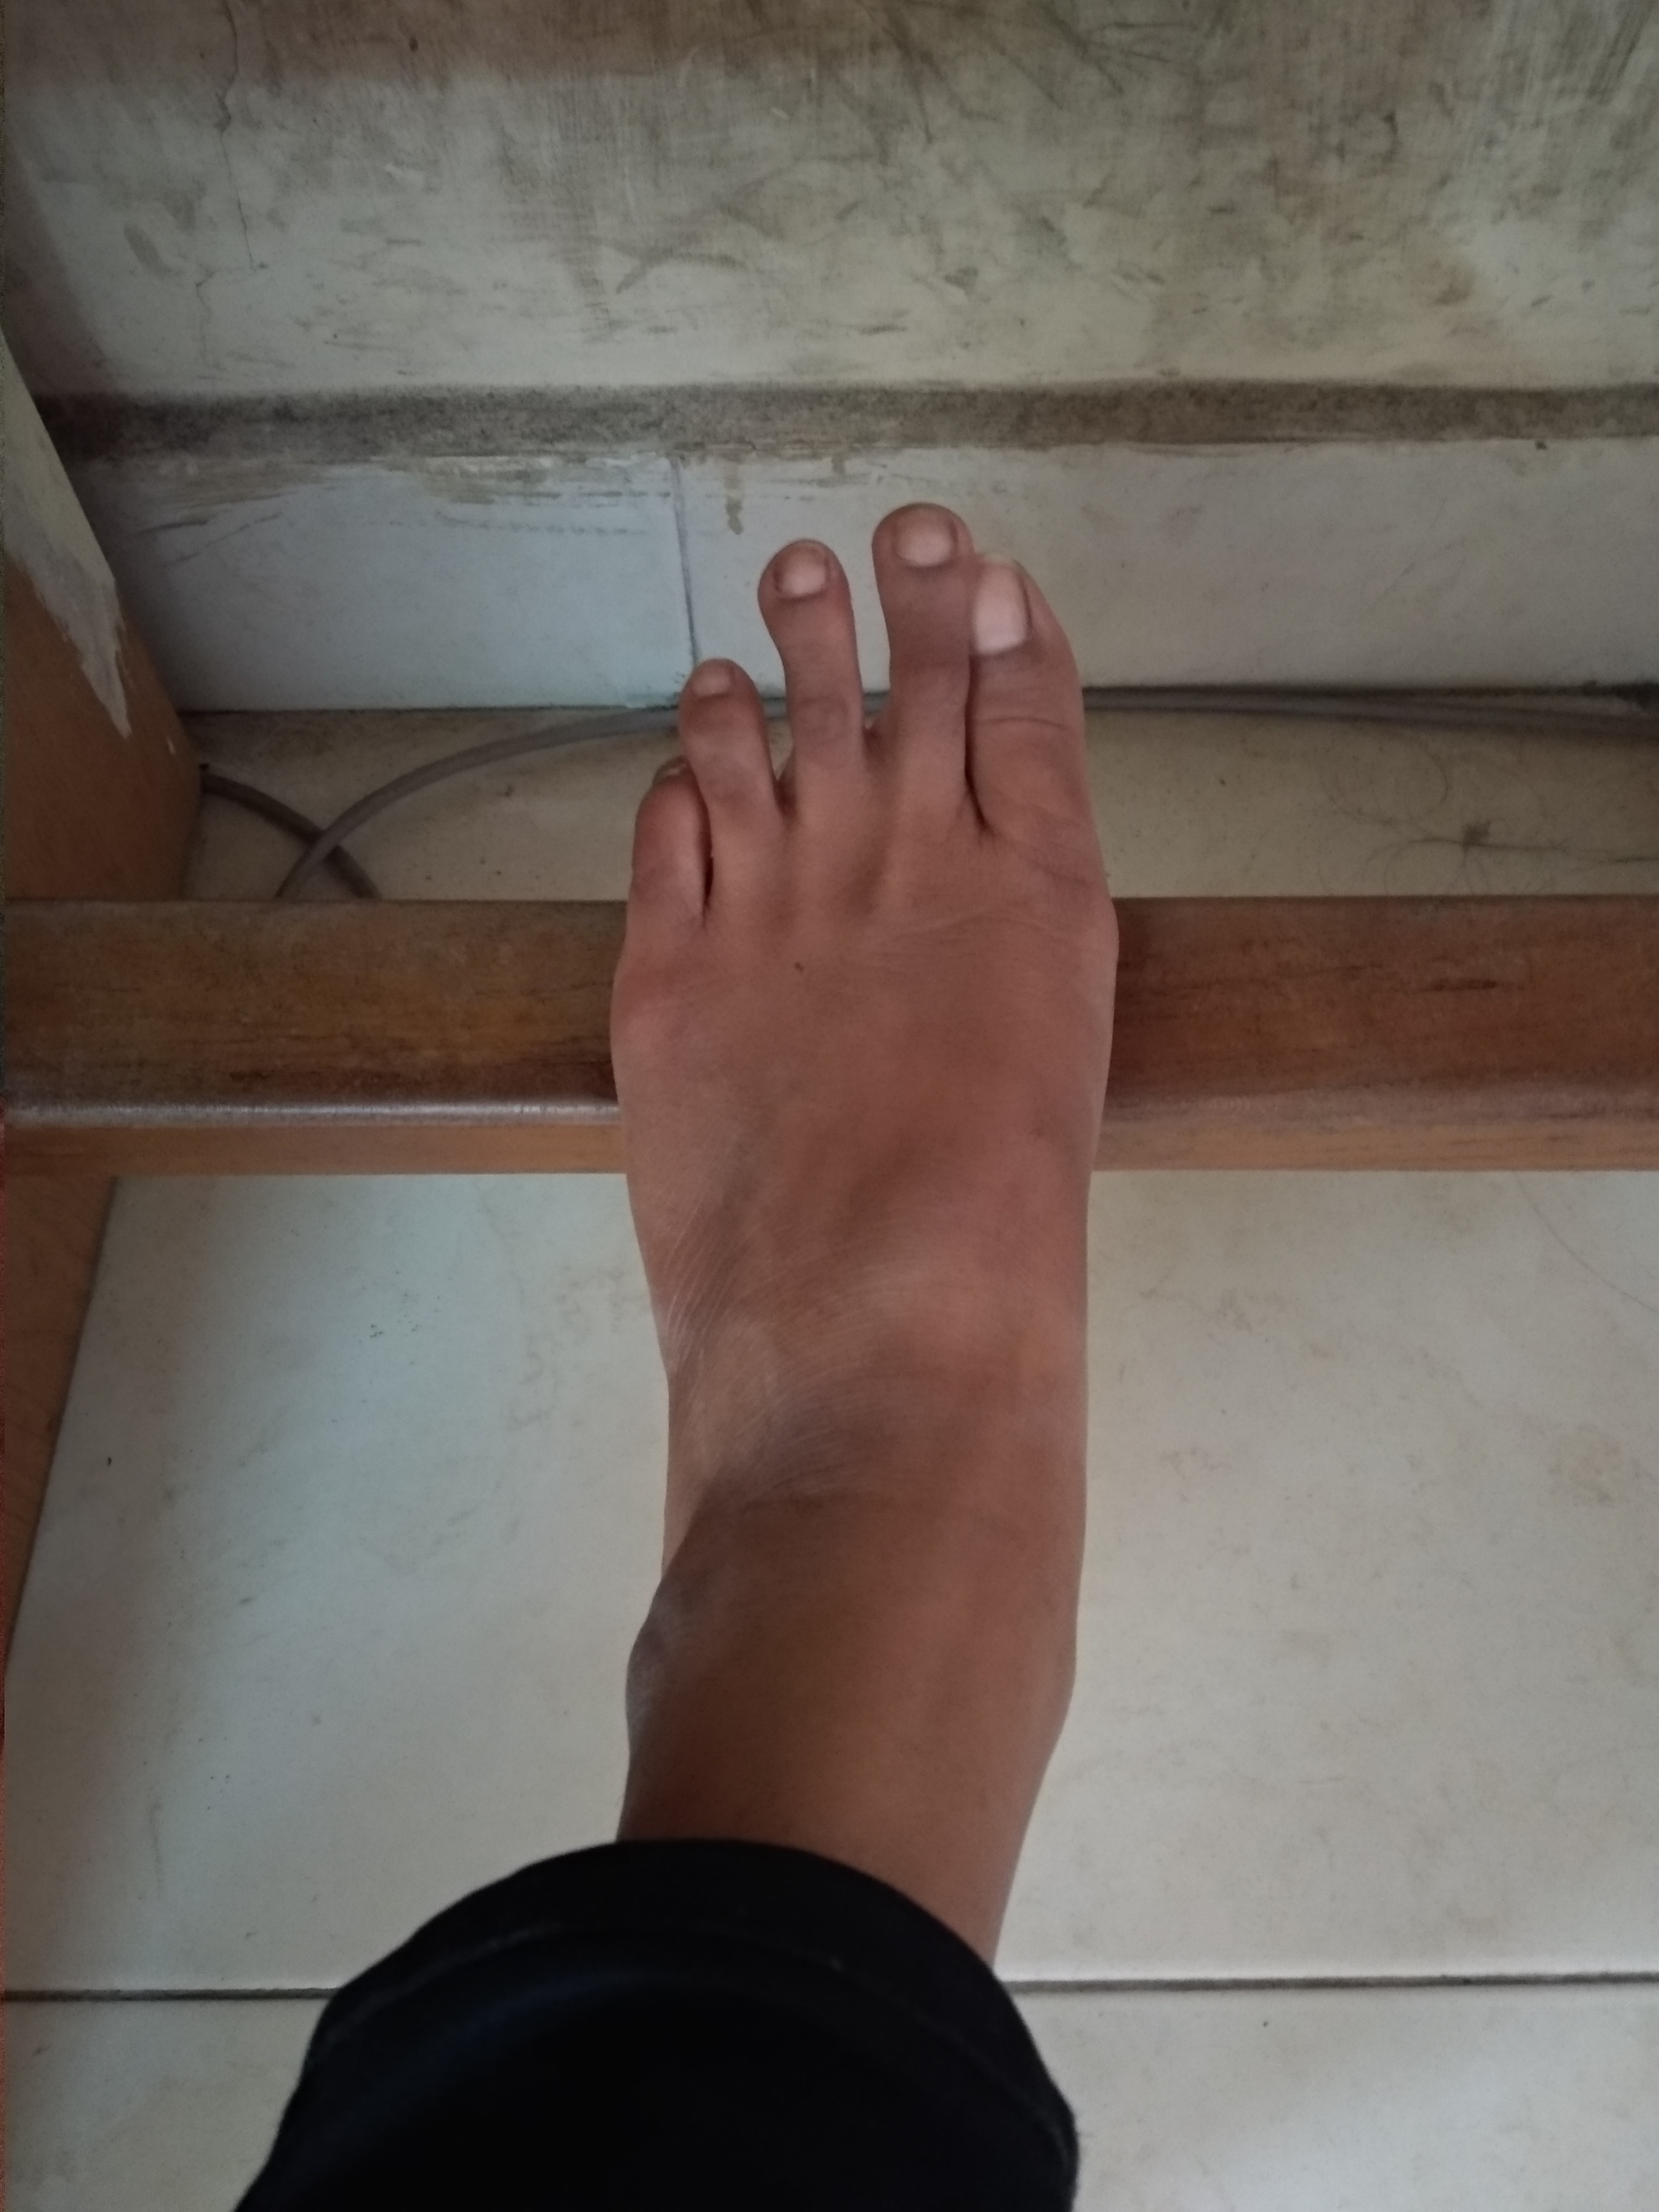feet: (458, 493, 1140, 1940)
